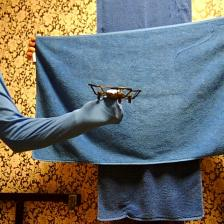drone: (89, 83, 141, 107)
